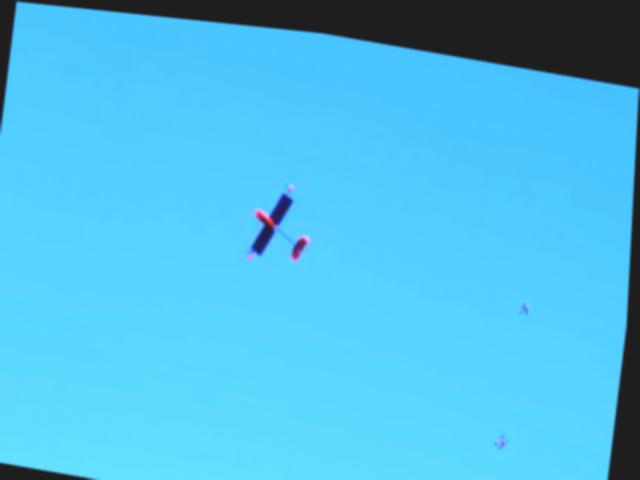uav: (229, 164, 328, 271)
